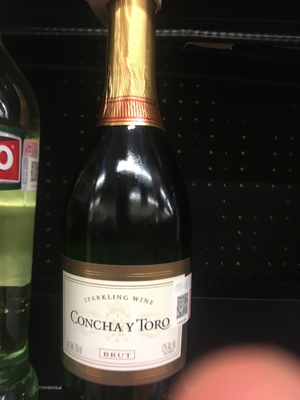brut: (59, 4, 197, 400)
